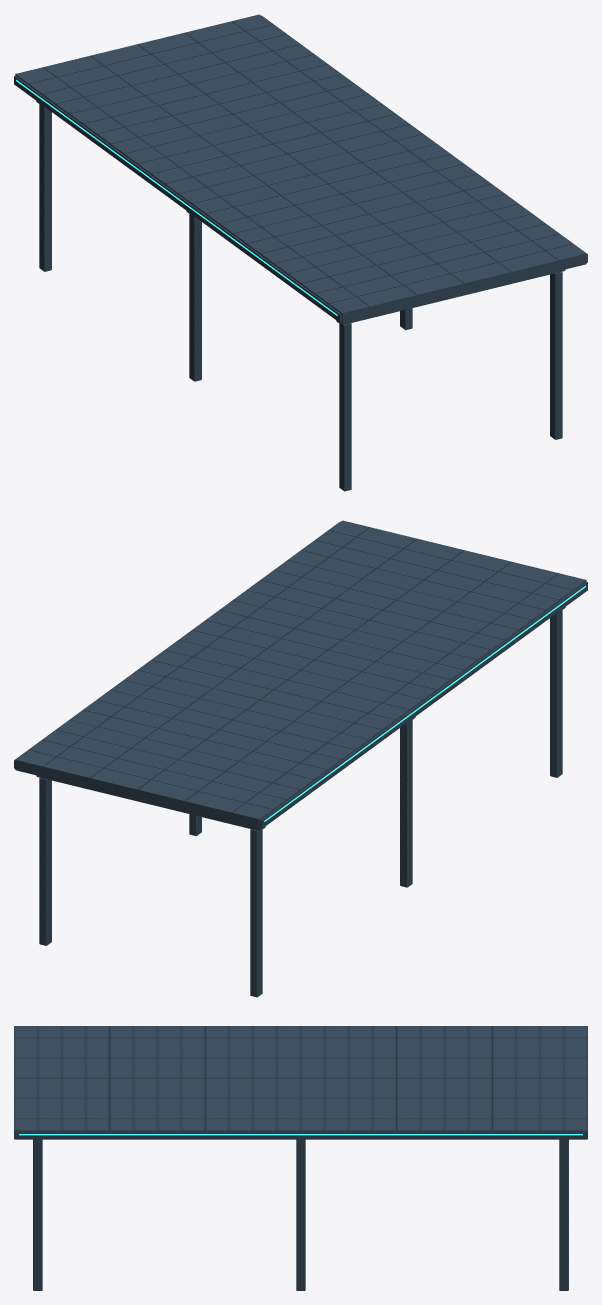
File: arcade-chunk-lower.glb
The picture shows the model from 3 angles, top to bottom: view 1: azimuth 30°, elevation 25°; view 2: azimuth 150°, elevation 25°; view 3: azimuth 270°, elevation 25°; orthographic projection. The views are drawn at different scales.
Visible parts, largest first — view 1: arcade-chunk-lower; view 2: arcade-chunk-lower; view 3: arcade-chunk-lower.
Boxes of the visible parts, <box> form: arcade-chunk-lower: <box>14,14,587,491</box>; arcade-chunk-lower: <box>14,520,587,997</box>; arcade-chunk-lower: <box>14,1026,587,1290</box>.
Bounding box in the file's own units: 6.31 × 4.6 × 14.4.
5 materials, 1 textured.
